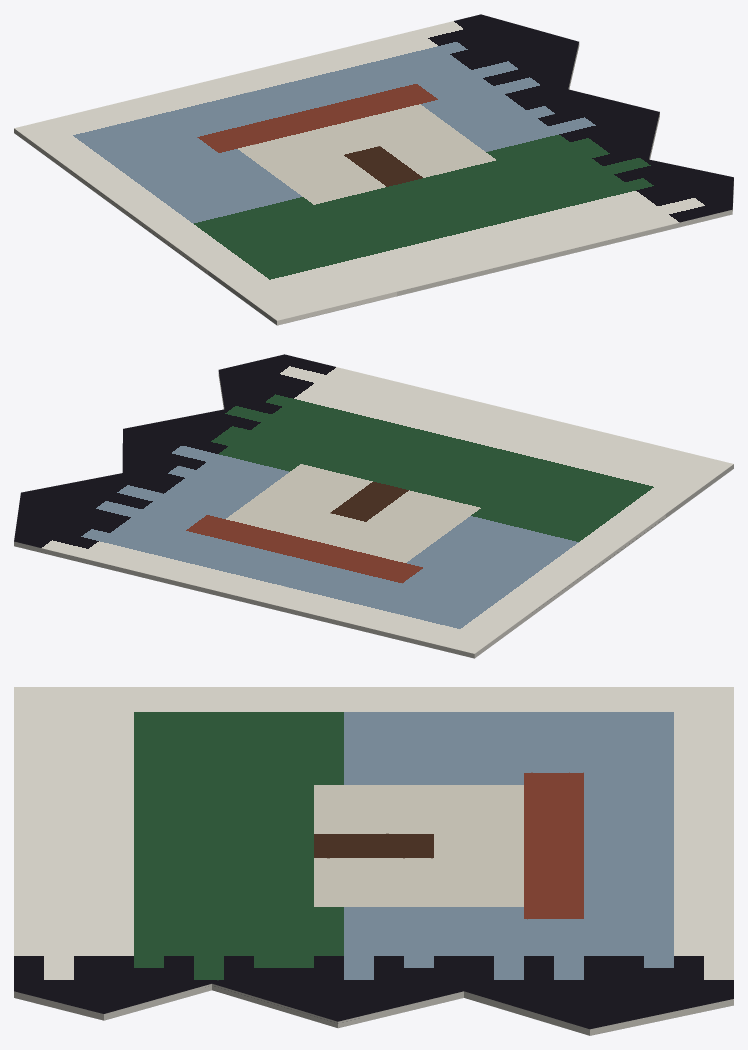
File: INV_TornPhotograph.glb
The picture shows the model from 3 angles, top to bottom: view 1: azimuth 30°, elevation 25°; view 2: azimuth 150°, elevation 25°; view 3: azimuth 270°, elevation 25°; orthographic projection. The views are drawn at different scales.
Parts seen in each view (by area): view 1: INV_TornPhotograph_Mesh; view 2: INV_TornPhotograph_Mesh; view 3: INV_TornPhotograph_Mesh.
Part boxes in pixels (left/top/right/bottom): INV_TornPhotograph_Mesh: left=14, top=14, right=733, bottom=325; INV_TornPhotograph_Mesh: left=14, top=354, right=733, bottom=658; INV_TornPhotograph_Mesh: left=14, top=687, right=733, bottom=1035.
Size of what is drawn, in the model's own units: 0.09 by 0.0008 by 0.08.
Materials: 1 (1 with a texture image).
